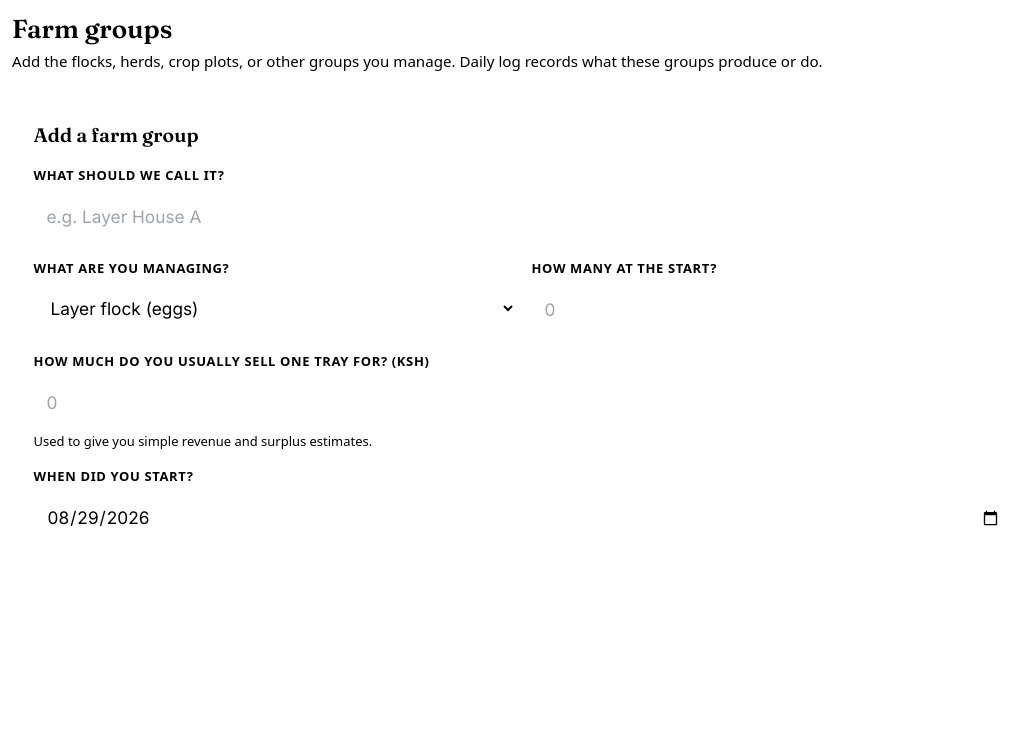
Test case: UnitsView — trading/resale type packaging › selecting the trading type reveals the packaging fields
Select "Buy & resell (water, charcoal, firewood...)" in the dropdown at [275, 308], box [34,284,516,333]
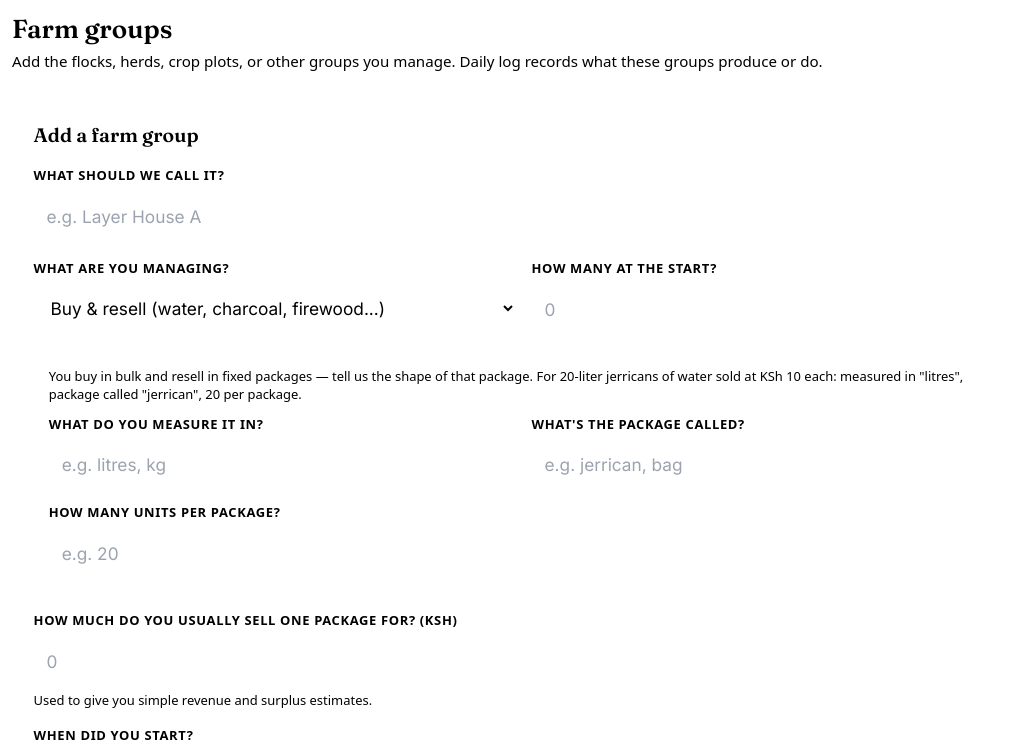
Expected: the text "What do you measure it in?" is shown, [49,415,264,433]
Expected: the text "What's the package called?" is shown, [532,415,745,433]
